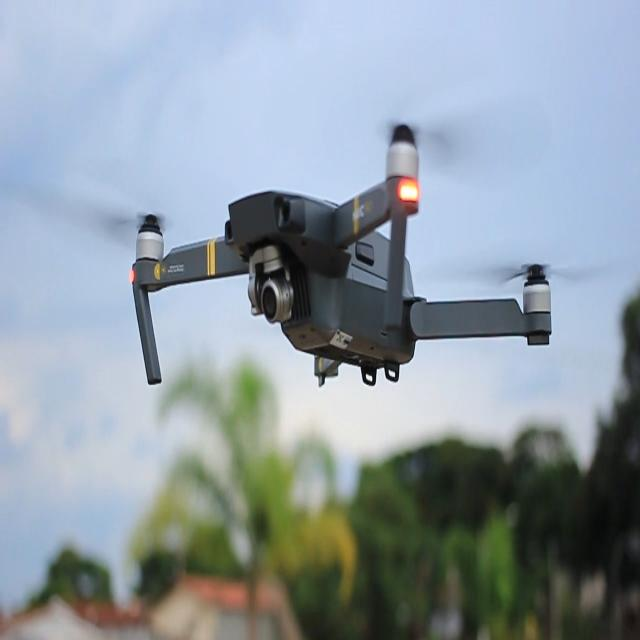Drone: (129, 122, 550, 385)
